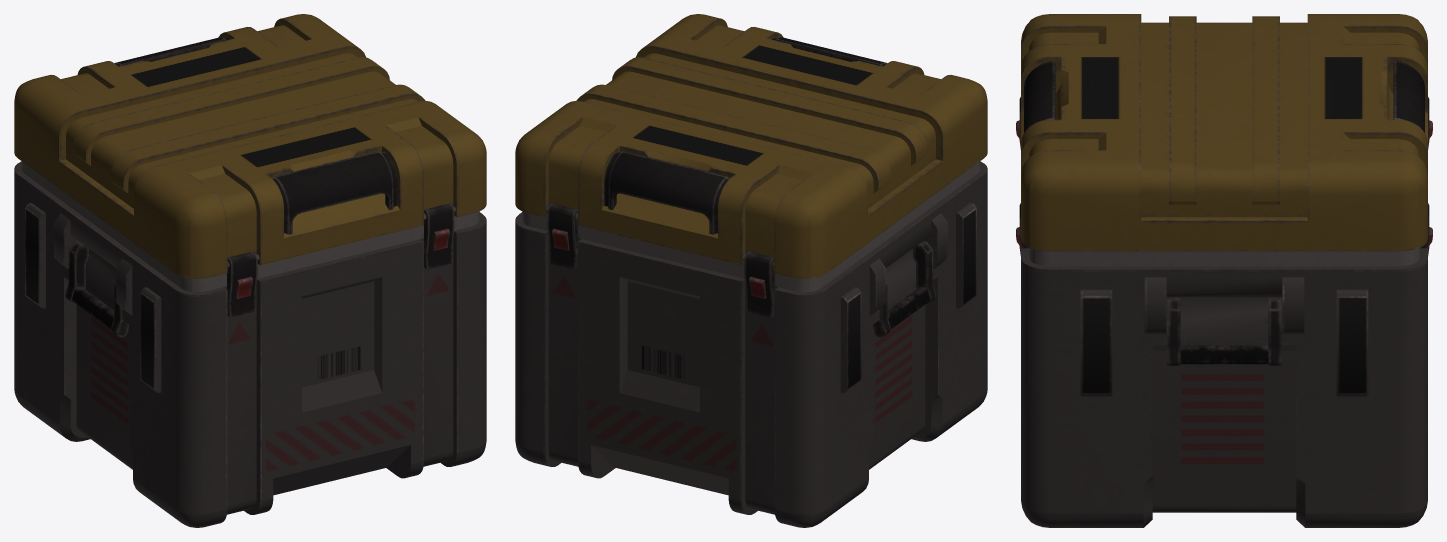
File: asset.glb
3 views of the same model, side by side, from view 1: azimuth 30°, elevation 25°; view 2: azimuth 150°, elevation 25°; view 3: azimuth 270°, elevation 25° (orthographic). The views are drawn at different scales.
Parts seen in each view (by area): view 1: Regular Box; view 2: Regular Box; view 3: Regular Box.
Part boxes in pixels (x1=…): Regular Box: x1=14, y1=14, x2=486, y2=527; Regular Box: x1=515, y1=14, x2=987, y2=527; Regular Box: x1=1016, y1=14, x2=1432, y2=527.
Bounding box in the file's own units: 1.01 × 0.9878 × 1.02.
Materials: 1 (1 with a texture image).
